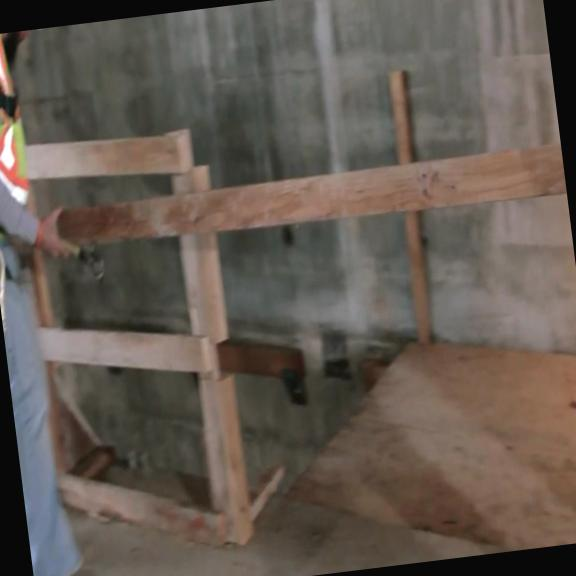safety_vest: (0, 32, 33, 210)
